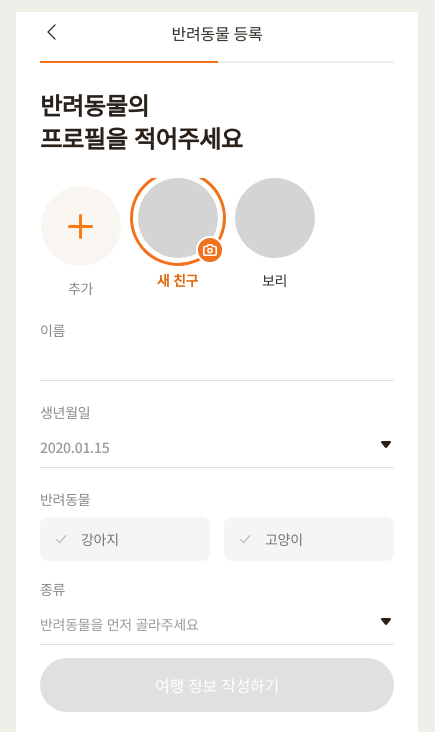
M02 반려동물 등록 › 다른 반려동물을 눌러 정보를 불러온다
Click the button "보리".
click(274, 234)  # box [234,178,315,291]
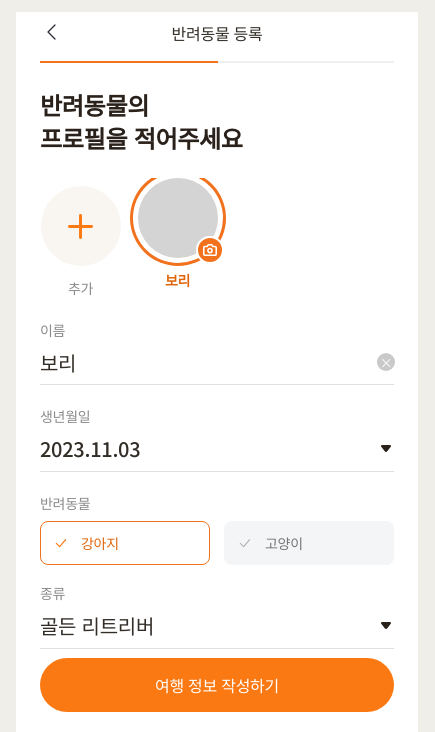
Now the field labelled "이름" holds "보리", box [40,342,364,382]
Now the field labelled "생년월일" holds "2023.11.03", box [40,429,364,469]
